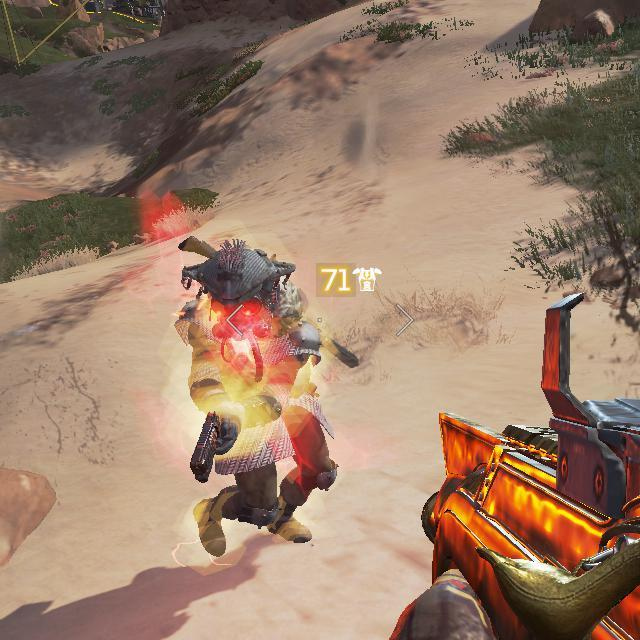avatar: (172, 235, 341, 559)
